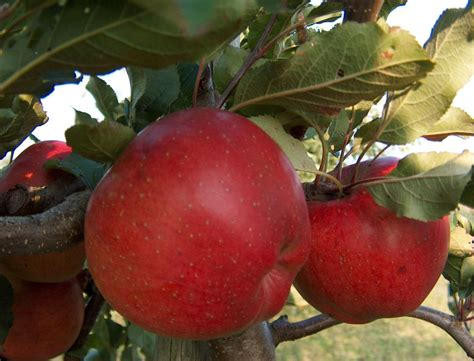apple: (77, 106, 317, 342)
